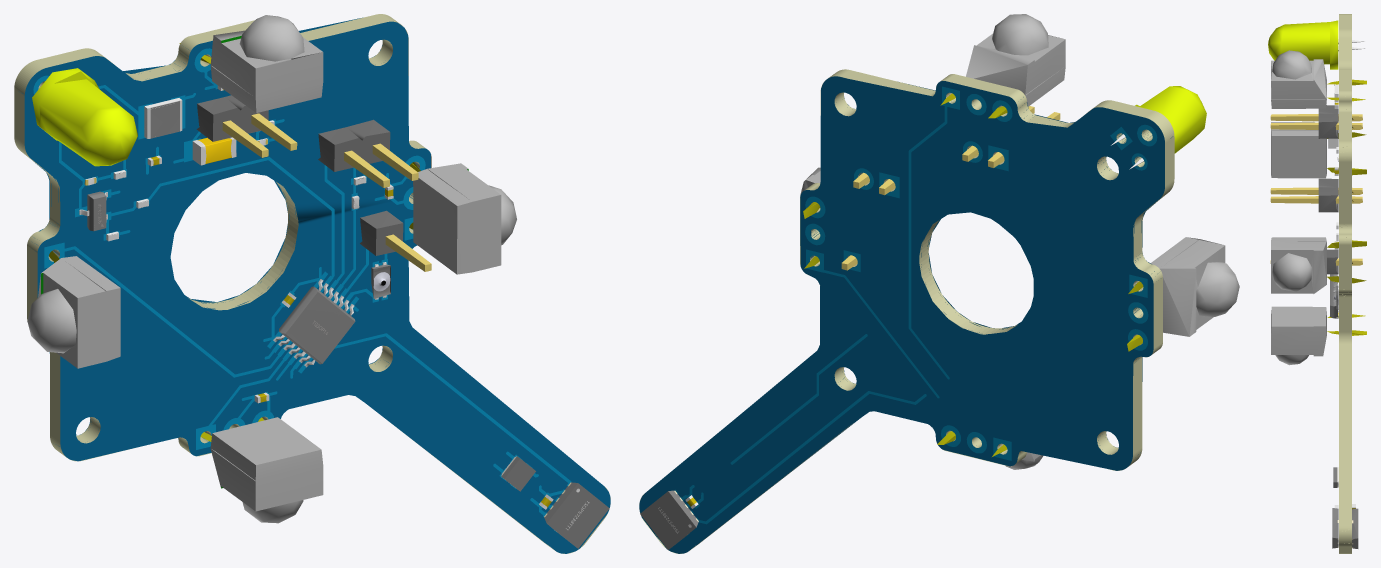
The picture shows the model from 3 angles, left to right: view 1: azimuth 30°, elevation 25°; view 2: azimuth 150°, elevation 25°; view 3: azimuth 270°, elevation 25°; orthographic projection. The views are drawn at different scales.
Parts seen in each view (by area): view 1: v6; view 2: v6; view 3: v6.
Boxes of the visible parts, <box> form: v6: <box>14,14,610,553</box>; v6: <box>639,14,1239,553</box>; v6: <box>1268,14,1366,553</box>.
Size of the model in its own units: 54.67 by 54.67 by 12.31.
